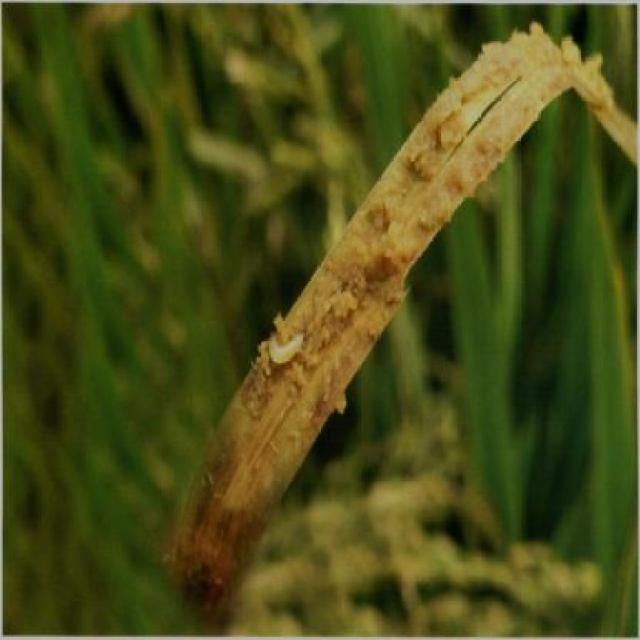whorl-maggot: (261, 331, 314, 375)
